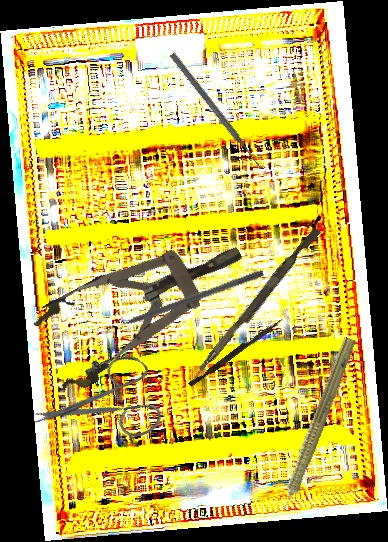Handpiece: (267, 333, 360, 525)
Iris Scissors: (28, 328, 183, 485)
Pusher: (191, 224, 321, 385), (168, 51, 265, 172), (99, 267, 265, 336), (188, 314, 284, 390)
Speculum: (25, 212, 262, 398)
